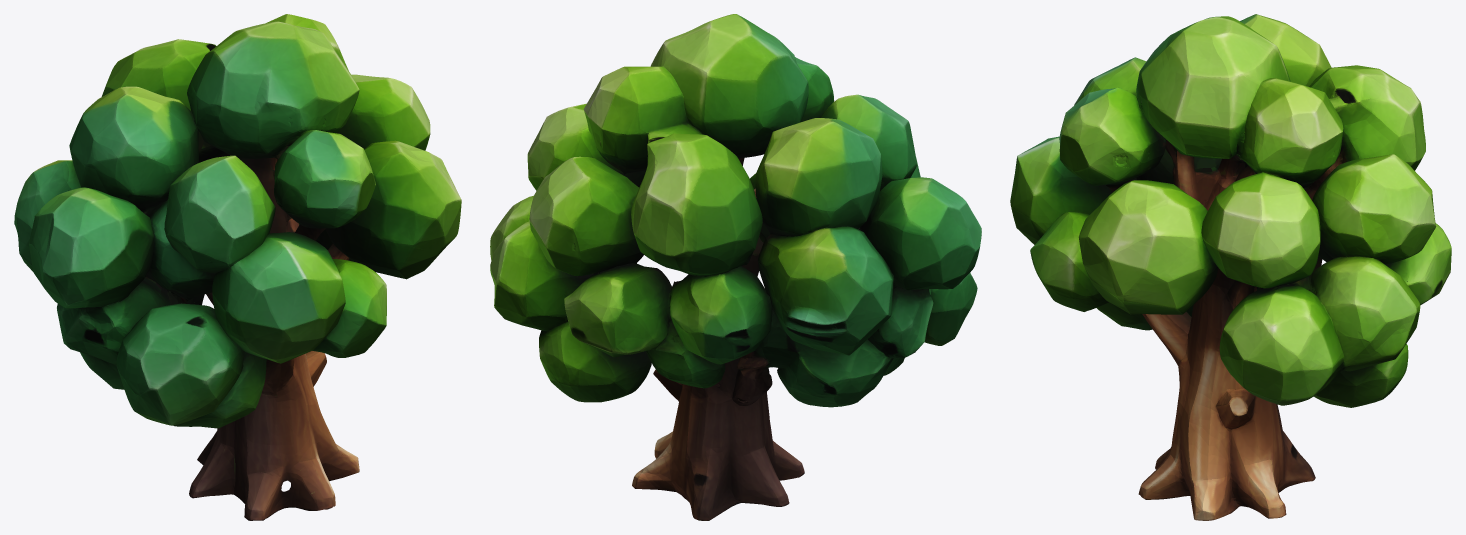
The model's file is Tree_1.glb.
3 renders of one model, left to right at view 1: azimuth 30°, elevation 25°; view 2: azimuth 150°, elevation 25°; view 3: azimuth 270°, elevation 25°, orthographic.
Parts seen in each view (by area): view 1: world; view 2: world; view 3: world.
Boxes of the visible parts, left/top/right/bottom form: world: left=14, top=14, right=461, bottom=520; world: left=490, top=14, right=981, bottom=520; world: left=1010, top=14, right=1451, bottom=520.
Size of the model in its own units: 0.9972 by 0.9924 by 0.8567.
1 material, 1 textured.
